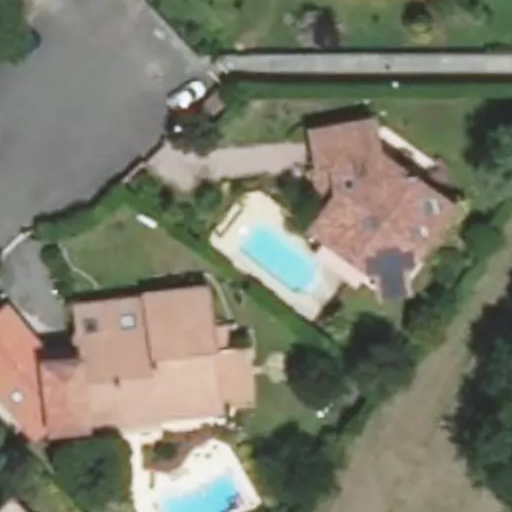pool: (212, 228, 299, 255)
